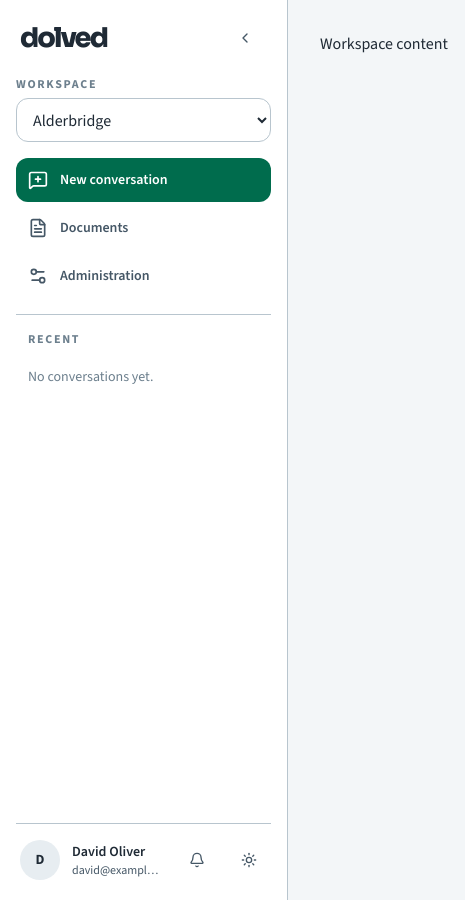
it: AppShell › offers sign out from the named account menu
Click the button with aria-label "Account menu for David Oliver" at {"x": 92, "y": 860}, box [16,836,167,884]
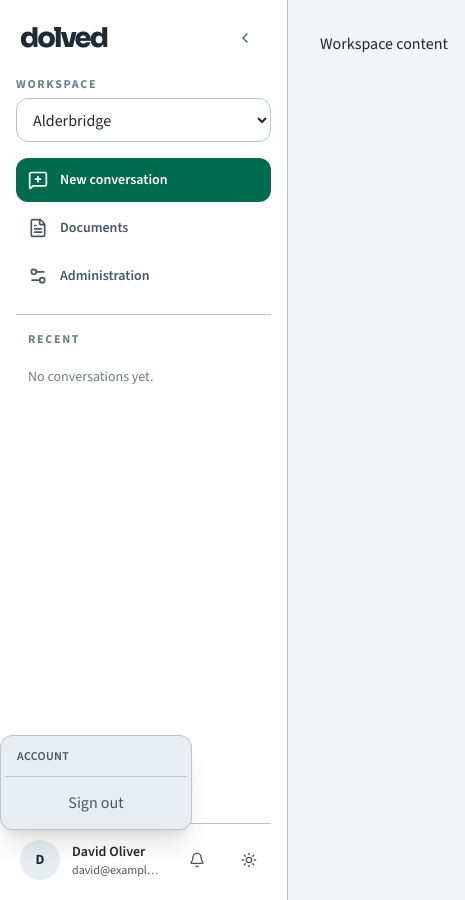
Expected: the button "Sign out" is shown, [5,781,187,825]
